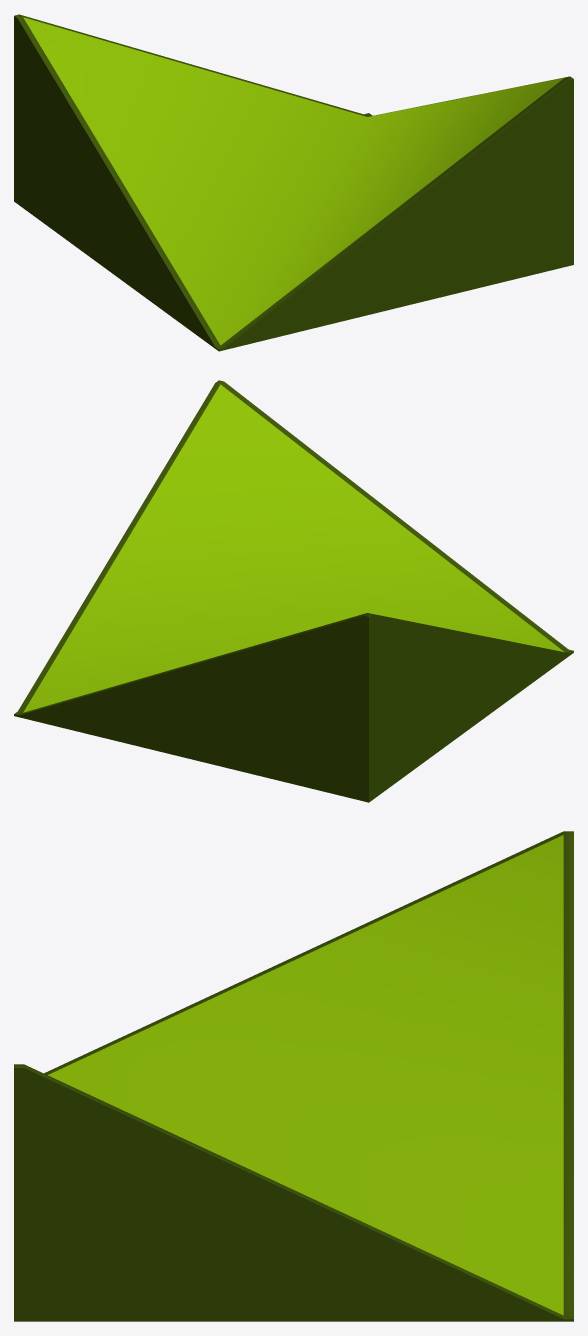
Rendered from Casilla 44.fbx.
3 renders of one model, top to bottom at view 1: azimuth 30°, elevation 25°; view 2: azimuth 150°, elevation 25°; view 3: azimuth 270°, elevation 25°, orthographic. The views are drawn at different scales.
Visible parts, largest first — view 1: pCube7; view 2: pCube7; view 3: pCube7.
Boxes of the visible parts, box(x1,y1,x2,y2) form: pCube7: box(14, 14, 573, 351); pCube7: box(14, 380, 573, 802); pCube7: box(14, 831, 573, 1321).
Bounding box in the file's own units: 200 × 100 × 200.
